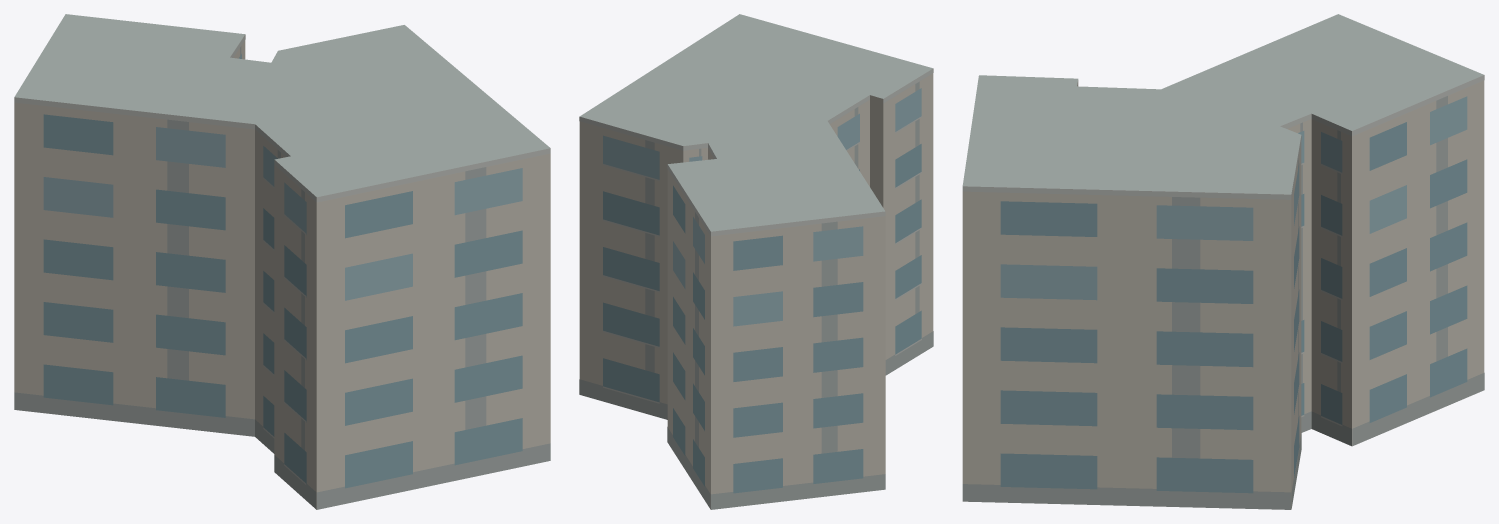
File: survey-upis-32760626.glb
The picture shows the model from 3 angles, left to right: view 1: azimuth 30°, elevation 25°; view 2: azimuth 150°, elevation 25°; view 3: azimuth 270°, elevation 25°; orthographic projection. The views are drawn at different scales.
Parts seen in each view (by area): view 1: survey-upis-32760626.tmp; view 2: survey-upis-32760626.tmp; view 3: survey-upis-32760626.tmp.
Boxes of the visible parts, x1=… form: survey-upis-32760626.tmp: x1=14, y1=14, x2=550, y2=509; survey-upis-32760626.tmp: x1=579, y1=14, x2=933, y2=509; survey-upis-32760626.tmp: x1=962, y1=14, x2=1484, y2=509.
Bounding box in the file's own units: 17.89 × 14.55 × 21.84.
